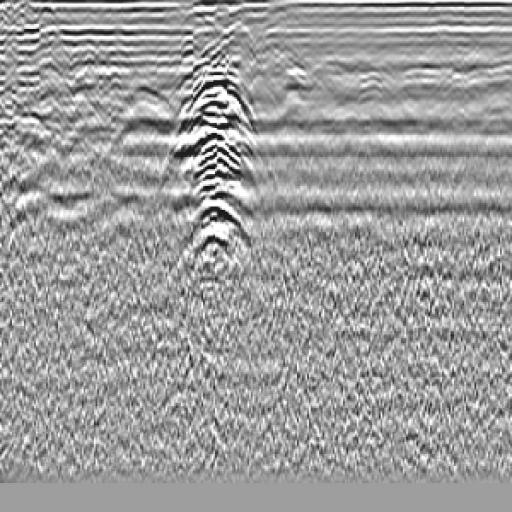metalic: (179, 59, 262, 292)
nonmetalic: (96, 79, 192, 173)
